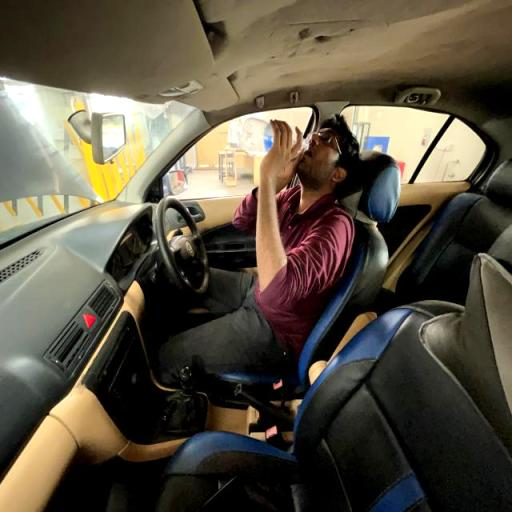Drinking: (206, 110, 367, 347)
